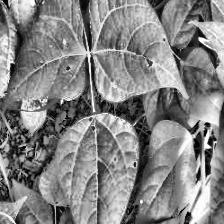ALS: (90, 0, 188, 99), (56, 114, 138, 224), (7, 0, 86, 106), (0, 0, 17, 115)
